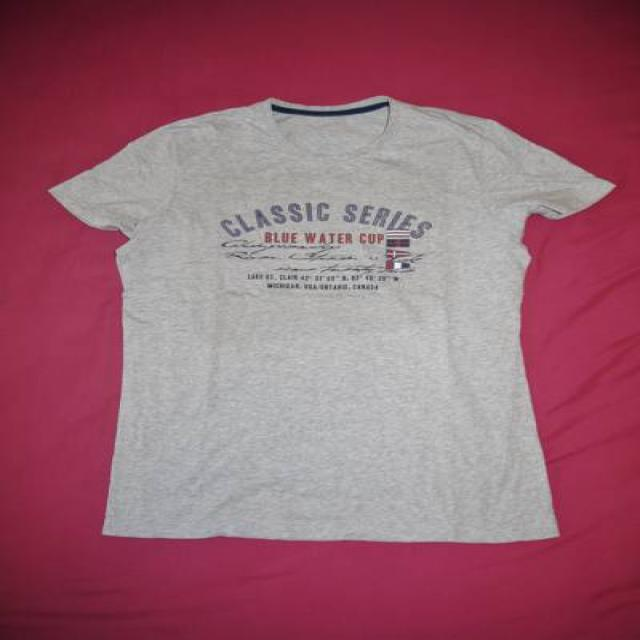shirt: (50, 95, 615, 543)
